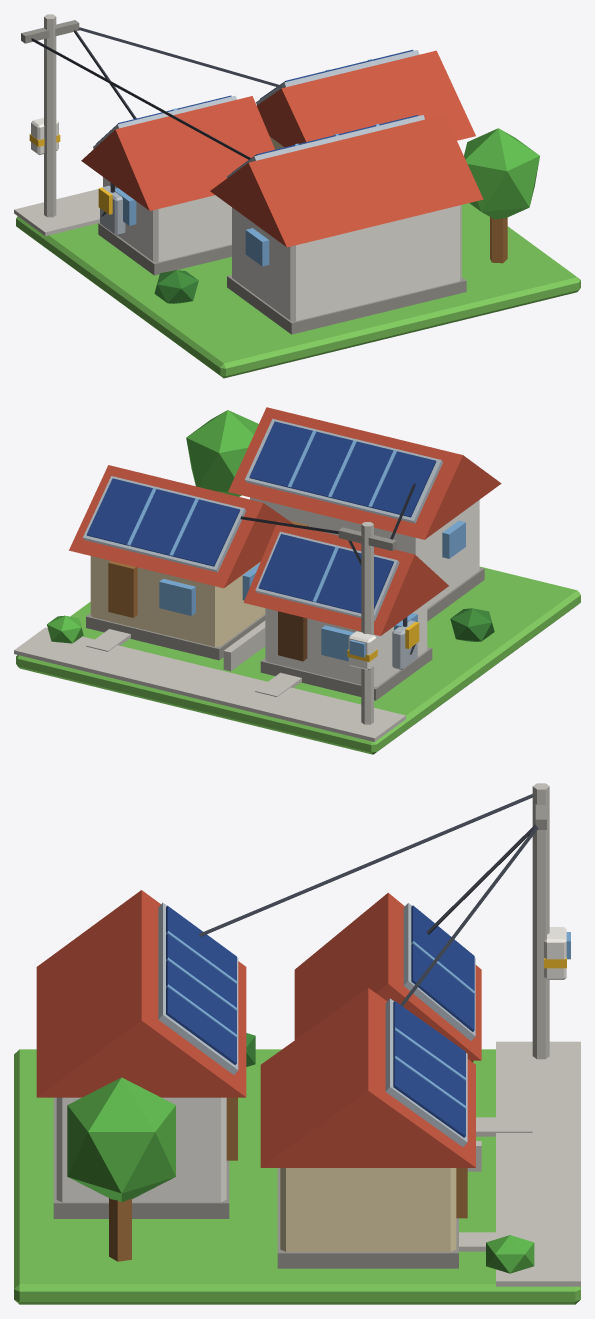
The model's file is solar_rooftop.glb.
3 renders of one model, top to bottom at view 1: azimuth 30°, elevation 25°; view 2: azimuth 150°, elevation 25°; view 3: azimuth 270°, elevation 25°, orthographic. The views are drawn at different scales.
Parts seen in each view (by area): view 1: corpo; view 2: corpo; view 3: corpo.
Boxes of the visible parts, left/top/right/bottom form: corpo: left=14, top=14, right=580, bottom=378; corpo: left=14, top=407, right=580, bottom=754; corpo: left=14, top=783, right=580, bottom=1304.
Size of the model in its own units: 2.03 by 1.15 by 2.
